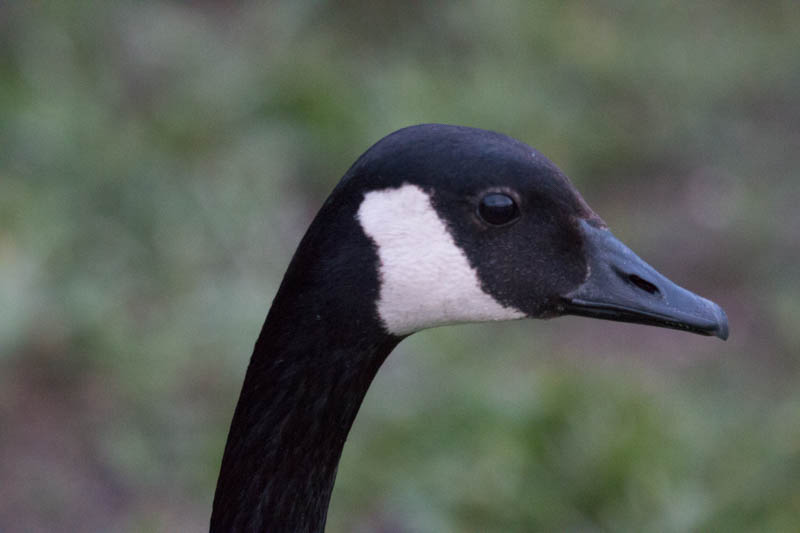goose-head: (312, 120, 732, 340)
